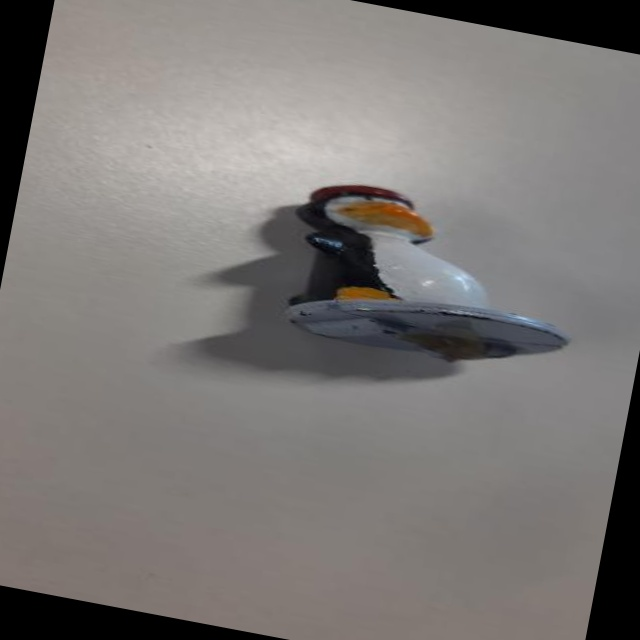Penguin: (229, 162, 579, 374)
